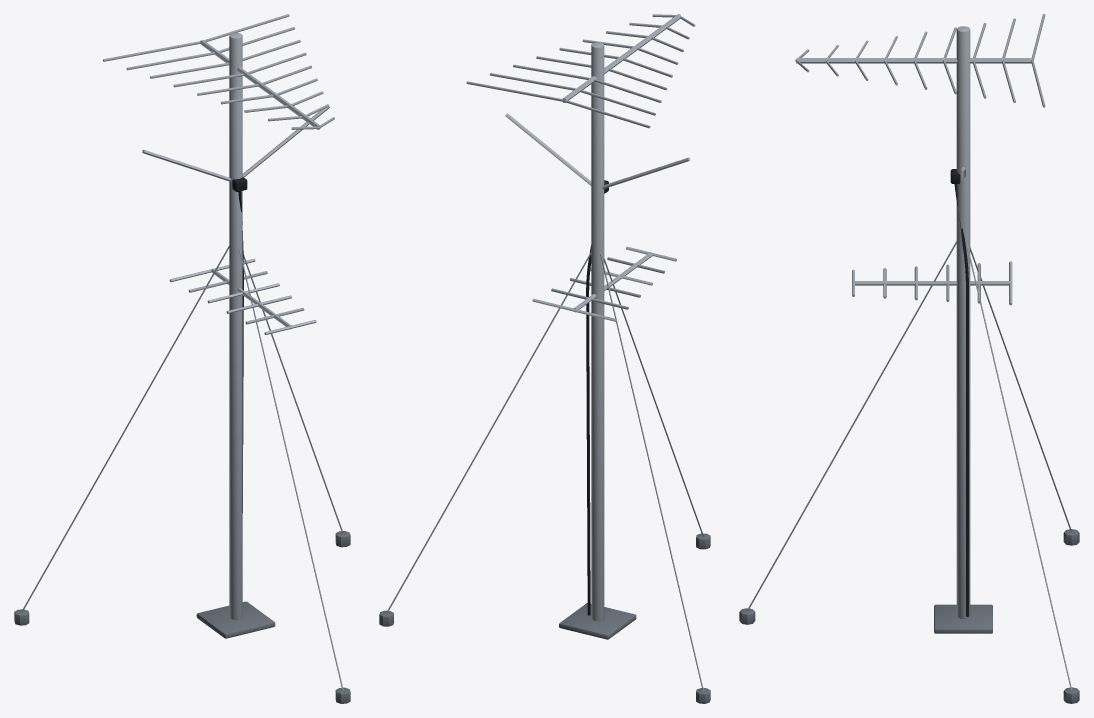
The model's file is antena_tv_mastro.glb.
3 views of the same model, side by side, from view 1: azimuth 30°, elevation 25°; view 2: azimuth 150°, elevation 25°; view 3: azimuth 270°, elevation 25° (orthographic). The views are drawn at different scales.
Parts seen in each view (by area): view 1: antena_tv_mastro; view 2: antena_tv_mastro; view 3: antena_tv_mastro.
Boxes of the visible parts, <box> form: antena_tv_mastro: <box>14,14,350,703</box>; antena_tv_mastro: <box>379,14,710,703</box>; antena_tv_mastro: <box>739,14,1079,703</box>.
Size of the model in its own units: 1.99 by 3.33 by 1.73.
Materials: 1 (1 with a texture image).
